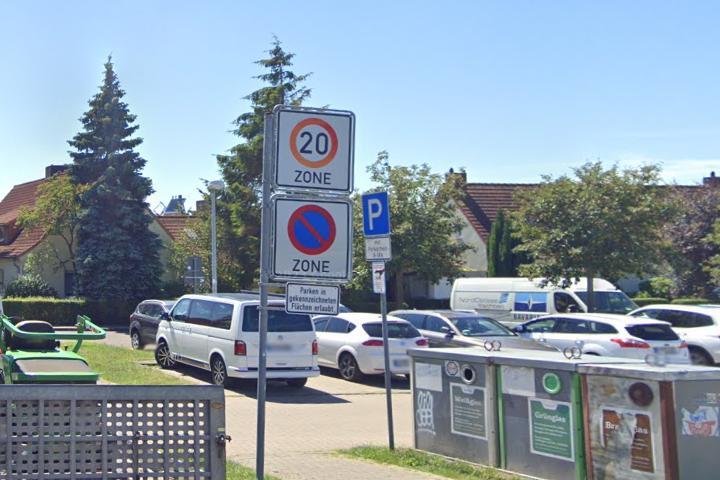traffic_sign: (288, 117, 340, 169), (287, 204, 338, 257), (361, 191, 391, 238)
vehicle: (143, 291, 324, 390), (474, 312, 696, 378), (276, 309, 430, 382)
